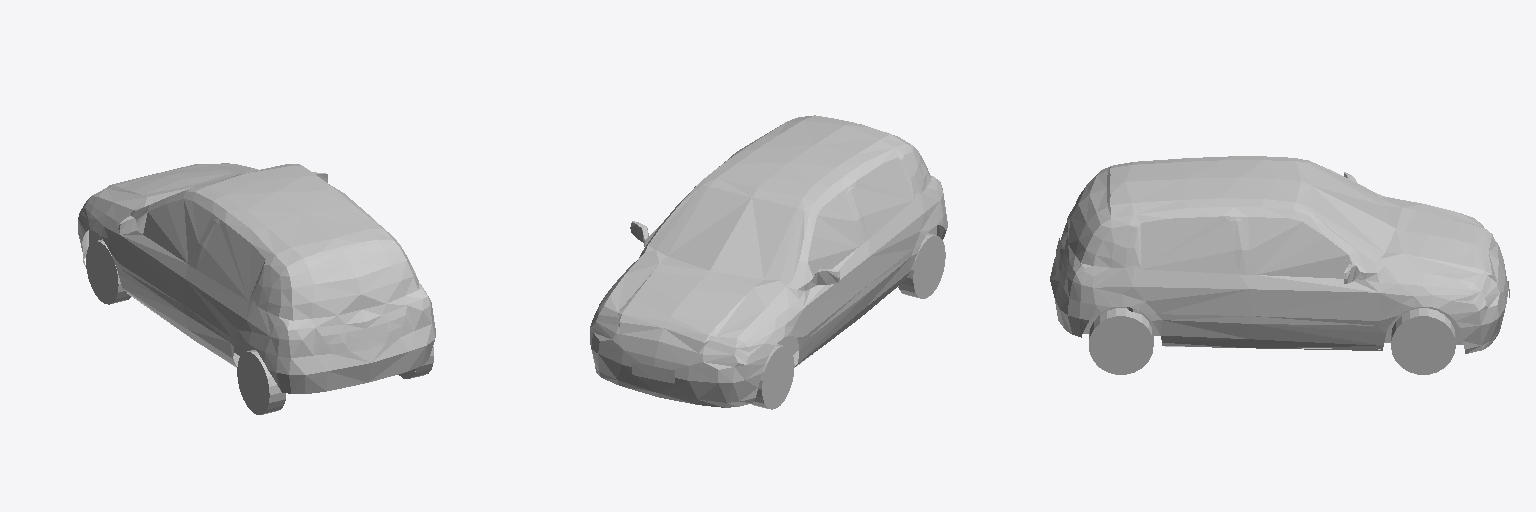
Rendered from small_car.obj.
3 views of the same model, side by side, from view 1: azimuth 30°, elevation 25°; view 2: azimuth 150°, elevation 25°; view 3: azimuth 270°, elevation 25° (orthographic).
Parts seen in each view (by area): view 1: 10body, 10tyres, 10tyresurf, 10plates; view 2: 10body, 10tyres, 10tyresurf, 10plates; view 3: 10body, 10tyres, 10tyresurf, 10fill.
Boxes of the visible parts, x1,y1,x2,y2 form: 10body: [78, 163, 435, 393]; 10tyres: [86, 241, 415, 414]; 10tyresurf: [98, 239, 433, 414]; 10plates: [346, 323, 388, 346]; 10body: [590, 115, 947, 407]; 10tyres: [762, 235, 945, 409]; 10tyresurf: [751, 233, 935, 408]; 10plates: [632, 362, 674, 383]; 10body: [1050, 156, 1508, 353]; 10tyres: [1089, 308, 1455, 374]; 10tyresurf: [1089, 308, 1455, 343]; 10fill: [1083, 260, 1463, 349].
Bounding box in the file's own units: 1.99 × 1.44 × 3.81.